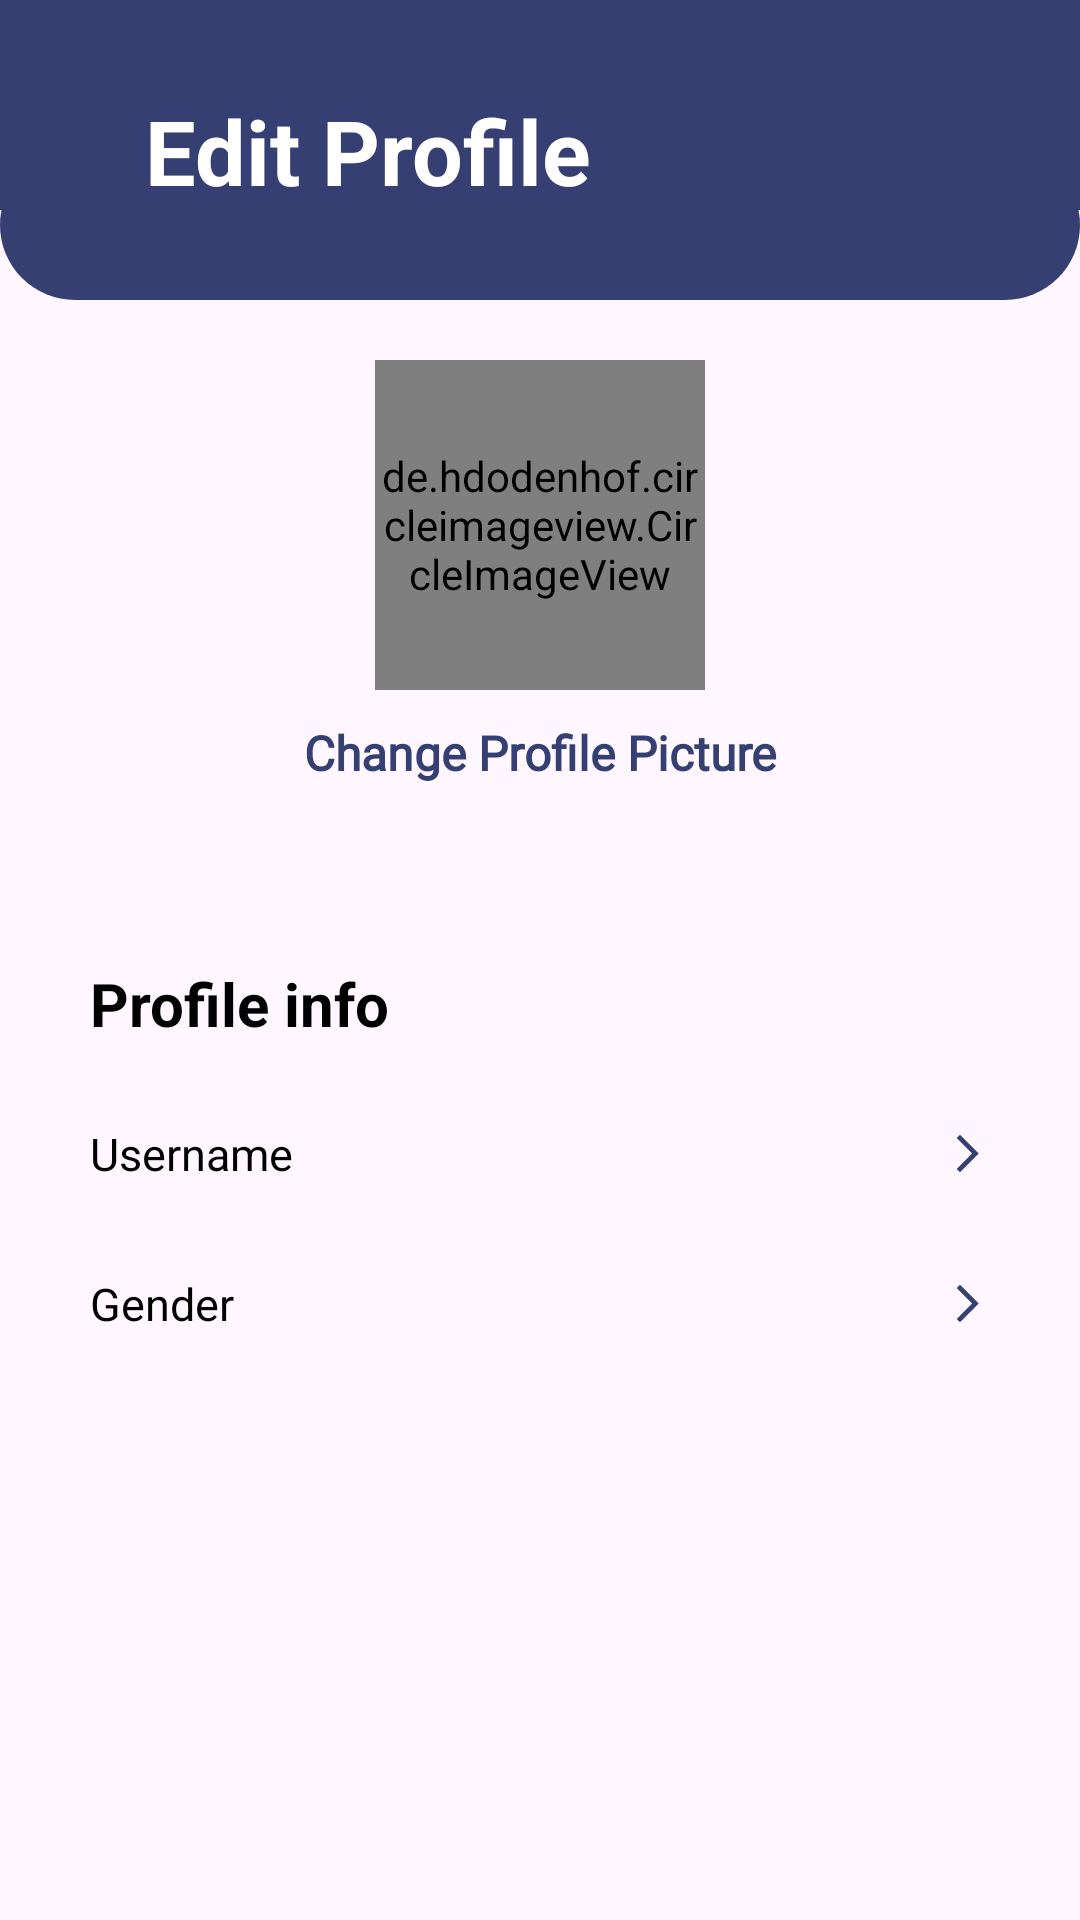

Icons on this 1080px×1920px Android screen, each with the point to tap as (x,y):
arrow forward: (968,1153), (968,1303)
